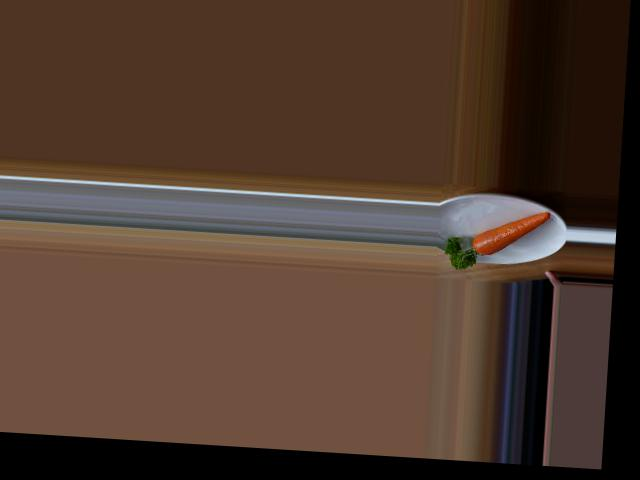carrot: (463, 206, 554, 263)
